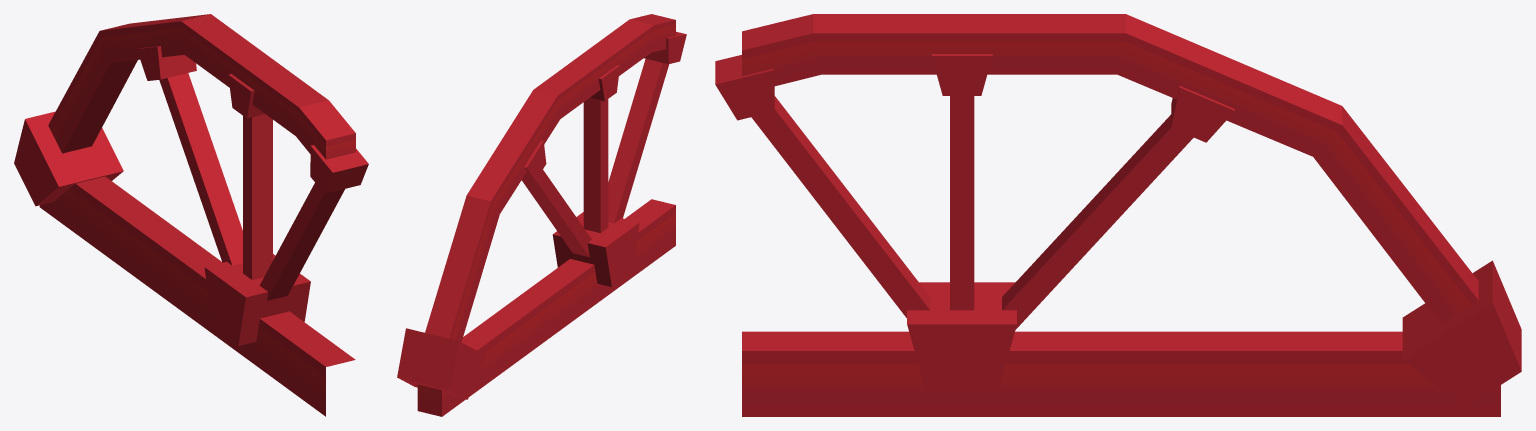
The model's file is bridge_steel_truss_start.glb.
3 views of the same model, side by side, from view 1: azimuth 30°, elevation 25°; view 2: azimuth 150°, elevation 25°; view 3: azimuth 270°, elevation 25° (orthographic). The views are drawn at different scales.
Parts seen in each view (by area): view 1: bridge_steel_truss_start; view 2: bridge_steel_truss_start; view 3: bridge_steel_truss_start.
Boxes of the visible parts, x1=… form: bridge_steel_truss_start: x1=14, y1=14, x2=368, y2=416; bridge_steel_truss_start: x1=397, y1=14, x2=686, y2=416; bridge_steel_truss_start: x1=715, y1=14, x2=1521, y2=416.
Bounding box in the file's own units: 1.31 × 5.58 × 10.63.
Materials: 1 (1 with a texture image).
